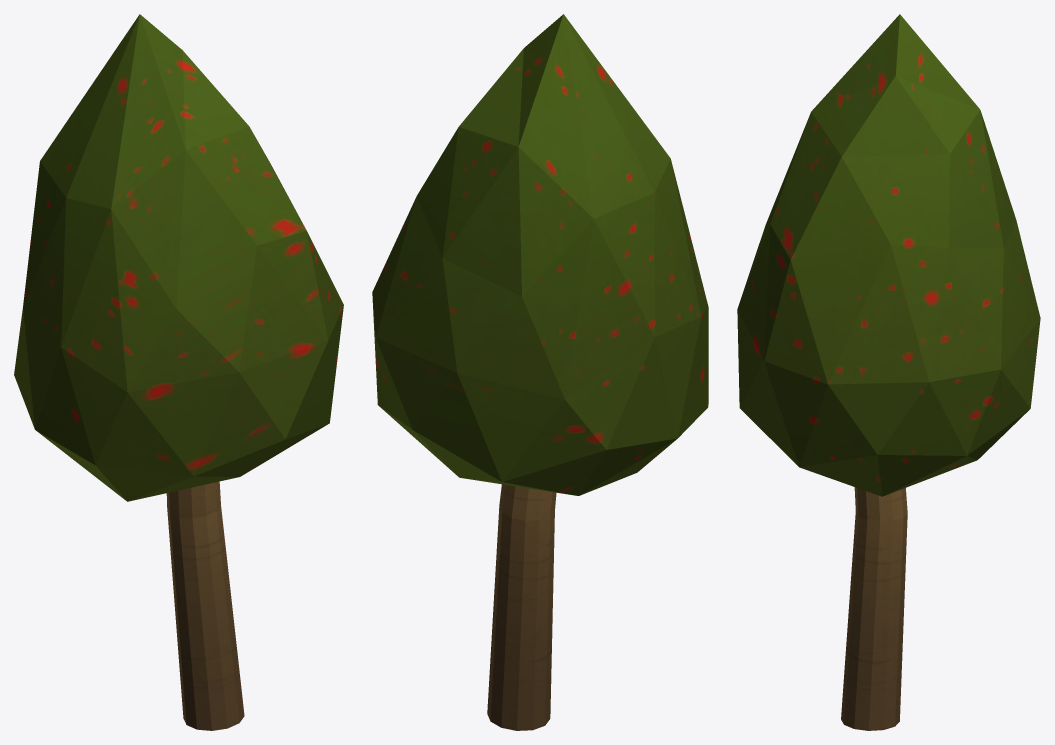
File: Bushes5.gltf
The picture shows the model from 3 angles, left to right: view 1: azimuth 30°, elevation 25°; view 2: azimuth 150°, elevation 25°; view 3: azimuth 270°, elevation 25°; orthographic projection. The views are drawn at different scales.
Parts seen in each view (by area): view 1: Hollytree1 - copy.013; view 2: Hollytree1 - copy.013; view 3: Hollytree1 - copy.013.
Boxes of the visible parts, <box> form: Hollytree1 - copy.013: <box>14,14,343,730</box>; Hollytree1 - copy.013: <box>372,14,708,730</box>; Hollytree1 - copy.013: <box>737,14,1040,730</box>.
Bounding box in the file's own units: 1.53 × 3.7 × 1.49.
Materials: 1 (1 with a texture image).
